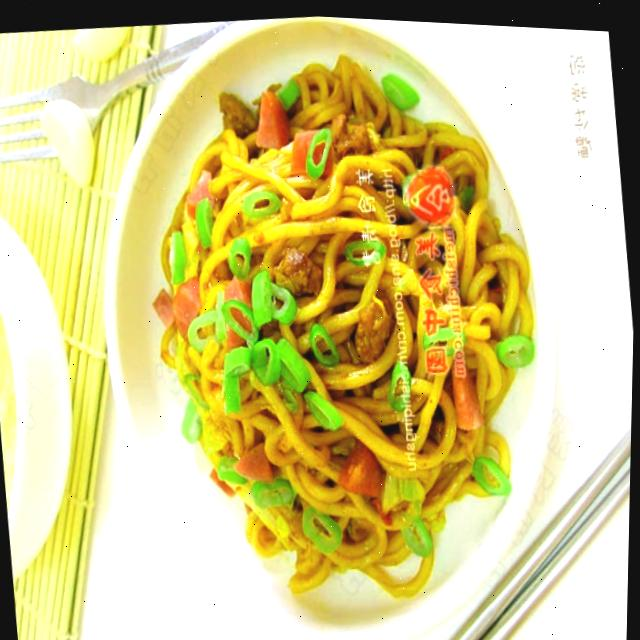面条主食: (114, 16, 562, 624)
